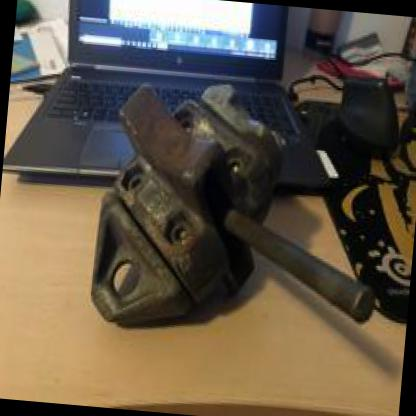Twistlock: (76, 53, 400, 361)
